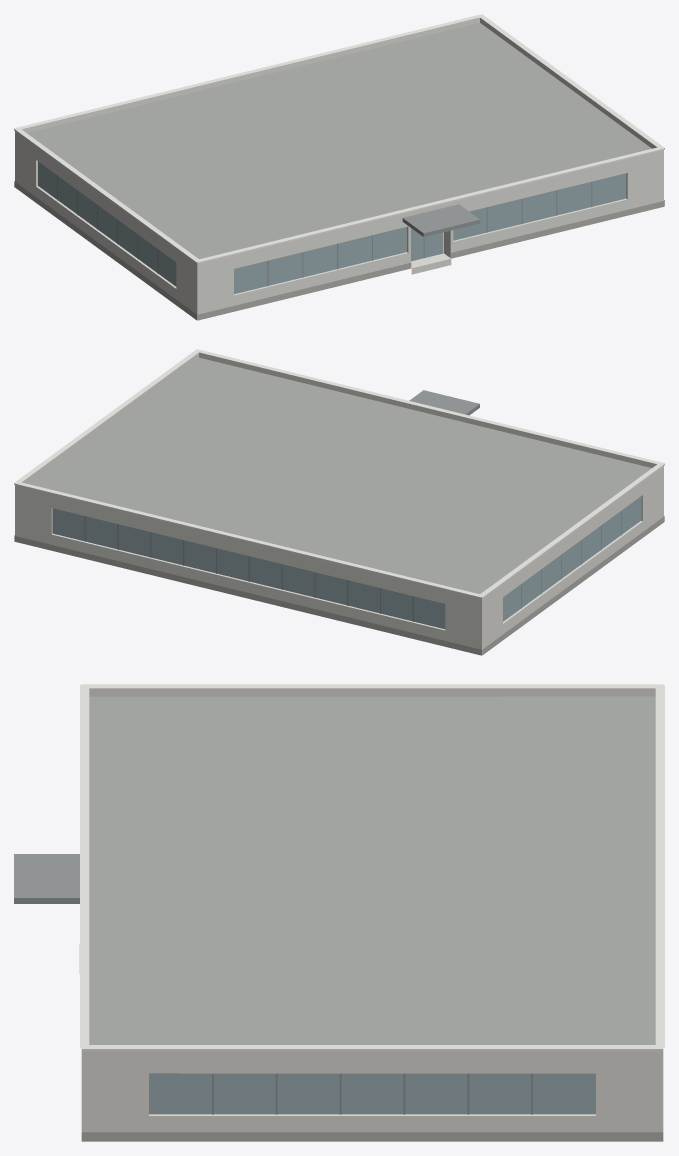
The picture shows the model from 3 angles, top to bottom: view 1: azimuth 30°, elevation 25°; view 2: azimuth 150°, elevation 25°; view 3: azimuth 270°, elevation 25°; orthographic projection. The views are drawn at different scales.
Visible parts, largest first — view 1: b115951745__roof, b115951745__wall, b115951745__glass, b115951745__trim, b115951745__parapet, b115951745__base, b115951745__canopy, b115951745__frame, b115951745__entranceThreshold_0; view 2: b115951745__roof, b115951745__wall, b115951745__glass, b115951745__trim, b115951745__parapet, b115951745__base, b115951745__canopy, b115951745__frame; view 3: b115951745__roof, b115951745__wall, b115951745__glass, b115951745__trim, b115951745__parapet, b115951745__base, b115951745__canopy, b115951745__frame.
Part boxes in pixels (x1=…): b115951745__roof: x1=27, y1=22, x2=651, y2=259; b115951745__wall: x1=15, y1=134, x2=663, y2=320; b115951745__glass: x1=38, y1=161, x2=626, y2=294; b115951745__trim: x1=14, y1=14, x2=664, y2=263; b115951745__parapet: x1=15, y1=17, x2=663, y2=267; b115951745__base: x1=14, y1=181, x2=664, y2=320; b115951745__canopy: x1=402, y1=204, x2=480, y2=236; b115951745__frame: x1=57, y1=175, x2=592, y2=286; b115951745__entranceThreshold_0: x1=411, y1=253, x2=451, y2=274; b115951745__roof: x1=27, y1=357, x2=651, y2=594; b115951745__wall: x1=15, y1=469, x2=663, y2=654; b115951745__glass: x1=52, y1=496, x2=640, y2=629; b115951745__trim: x1=14, y1=349, x2=664, y2=598; b115951745__parapet: x1=15, y1=352, x2=663, y2=602; b115951745__base: x1=14, y1=516, x2=664, y2=655; b115951745__canopy: x1=409, y1=390, x2=479, y2=415; b115951745__frame: x1=84, y1=510, x2=621, y2=621; b115951745__roof: x1=89, y1=696, x2=655, y2=1044; b115951745__wall: x1=81, y1=1056, x2=663, y2=1132; b115951745__glass: x1=149, y1=1073, x2=595, y2=1114; b115951745__trim: x1=80, y1=684, x2=664, y2=1051; b115951745__parapet: x1=81, y1=688, x2=663, y2=1056; b115951745__base: x1=81, y1=1132, x2=663, y2=1141; b115951745__canopy: x1=14, y1=854, x2=79, y2=903; b115951745__frame: x1=212, y1=1073, x2=532, y2=1114.
Bounding box in the file's own units: 33.24 × 4.35 × 25.08.
